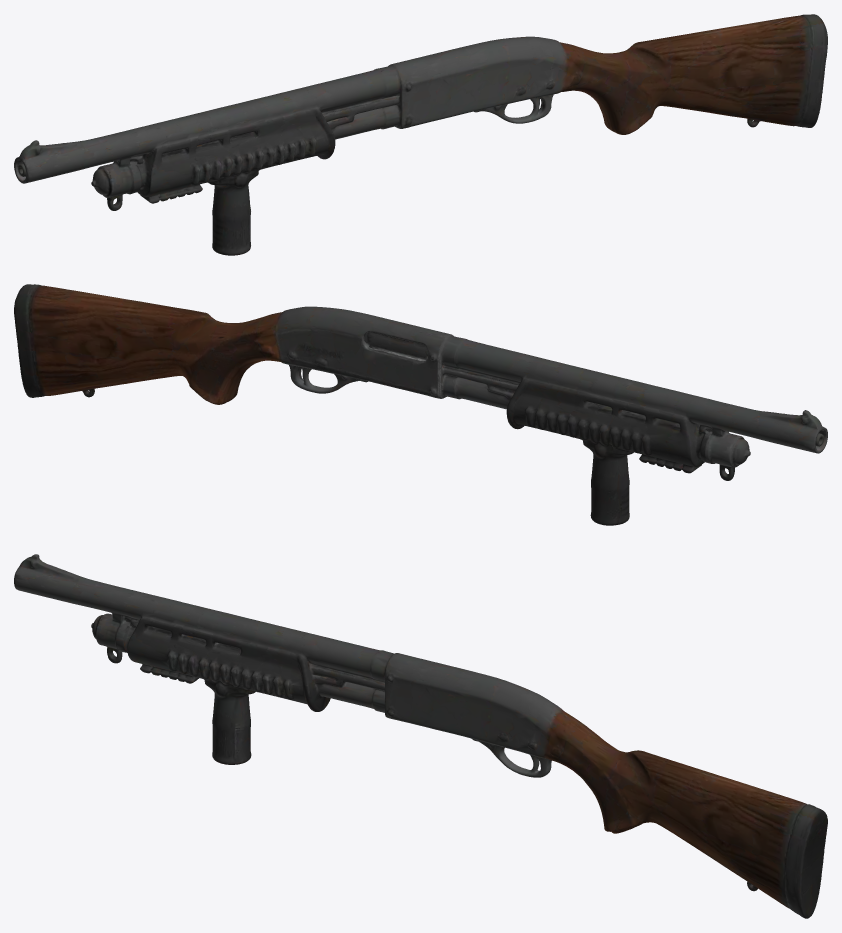
File: shotgun.glb
The picture shows the model from 3 angles, top to bottom: view 1: azimuth 30°, elevation 25°; view 2: azimuth 150°, elevation 25°; view 3: azimuth 330°, elevation 25°; orthographic projection.
Size of the model in its own units: 1.9 by 0.3963 by 0.1183.
1 material, 1 textured.
